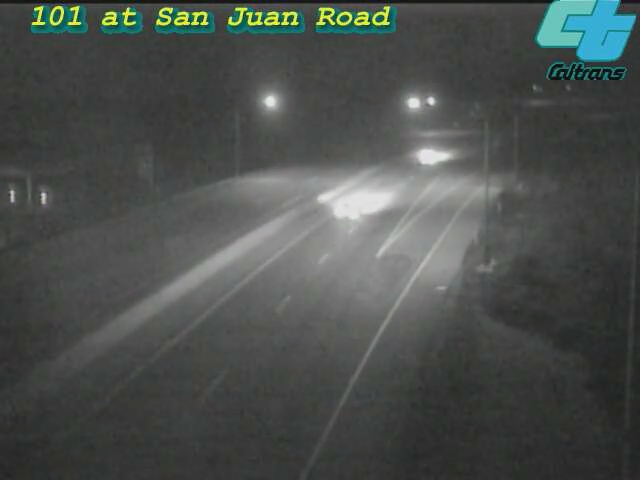vehicle: (388, 116, 468, 196), (307, 171, 387, 251)
